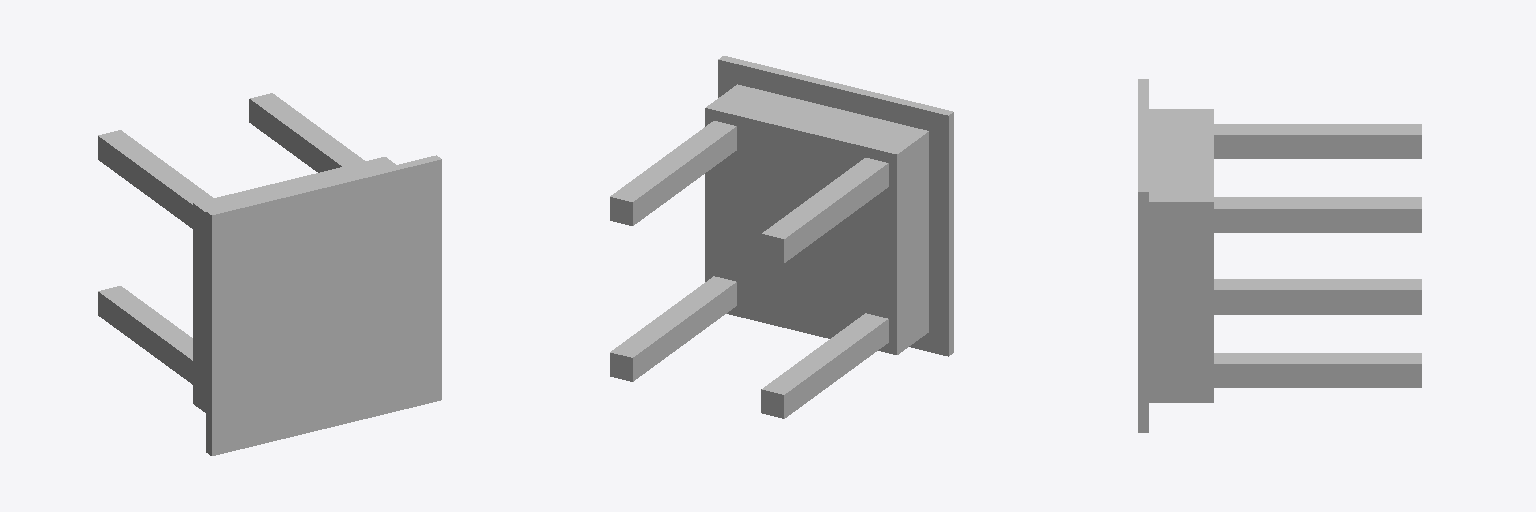
File: desk.obj
The picture shows the model from 3 angles: view 1: azimuth 30°, elevation 25°; view 2: azimuth 150°, elevation 25°; view 3: azimuth 270°, elevation 25°; orthographic projection.
Parts seen in each view (by area): view 1: obj_0; view 2: obj_0; view 3: obj_0.
Boxes of the visible parts, box(x1,y1,x2,y2) form: obj_0: box(98, 93, 441, 455); obj_0: box(610, 56, 953, 418); obj_0: box(1138, 79, 1421, 432).
Size of the model in its own units: 120 by 120 by 128.